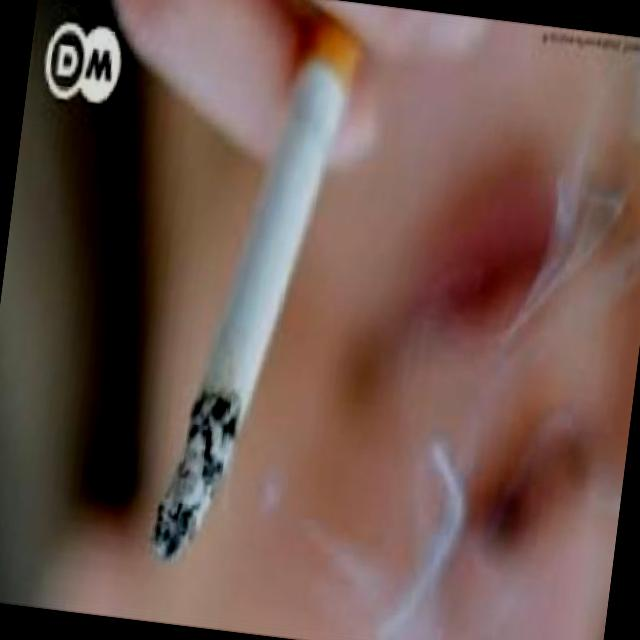cigarette: (140, 0, 432, 599)
